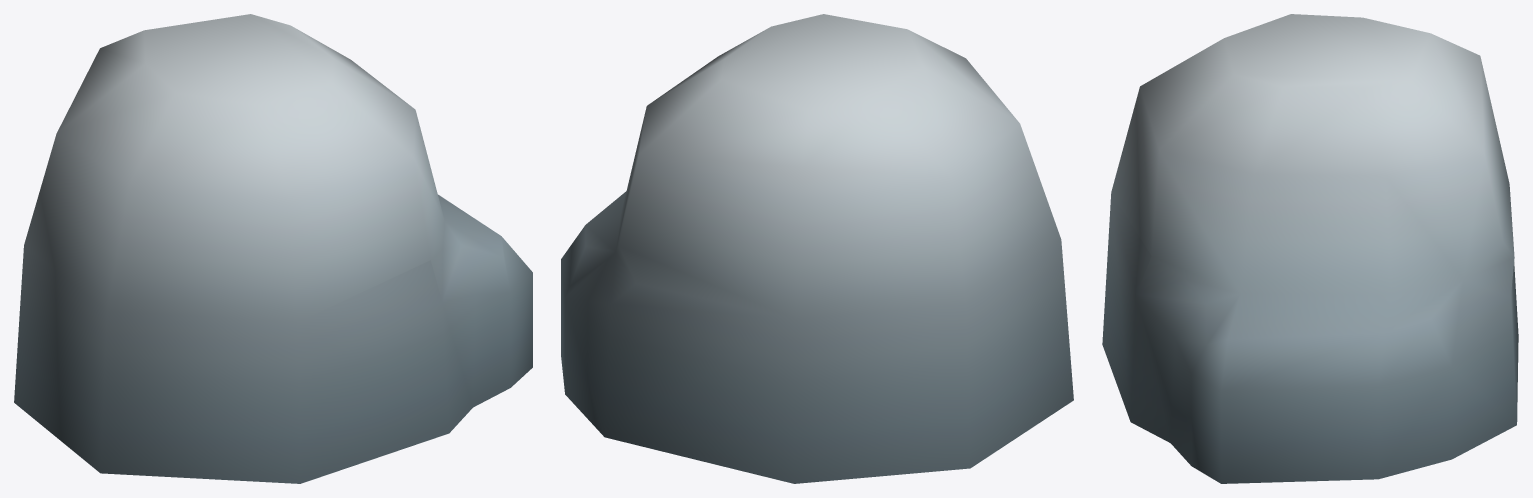
File: Furniture_Stone_4.fbx
3 renders of one model, left to right at view 1: azimuth 30°, elevation 25°; view 2: azimuth 150°, elevation 25°; view 3: azimuth 270°, elevation 25°, orthographic. The views are drawn at different scales.
Visible parts, largest first — view 1: Furniture_Stone_4; view 2: Furniture_Stone_4; view 3: Furniture_Stone_4.
Boxes of the visible parts, left/top/right/bottom form: Furniture_Stone_4: left=14, top=14, right=532, bottom=483; Furniture_Stone_4: left=561, top=14, right=1073, bottom=483; Furniture_Stone_4: left=1102, top=14, right=1518, bottom=483.
Size of the model in its own units: 168 by 121 by 144.
